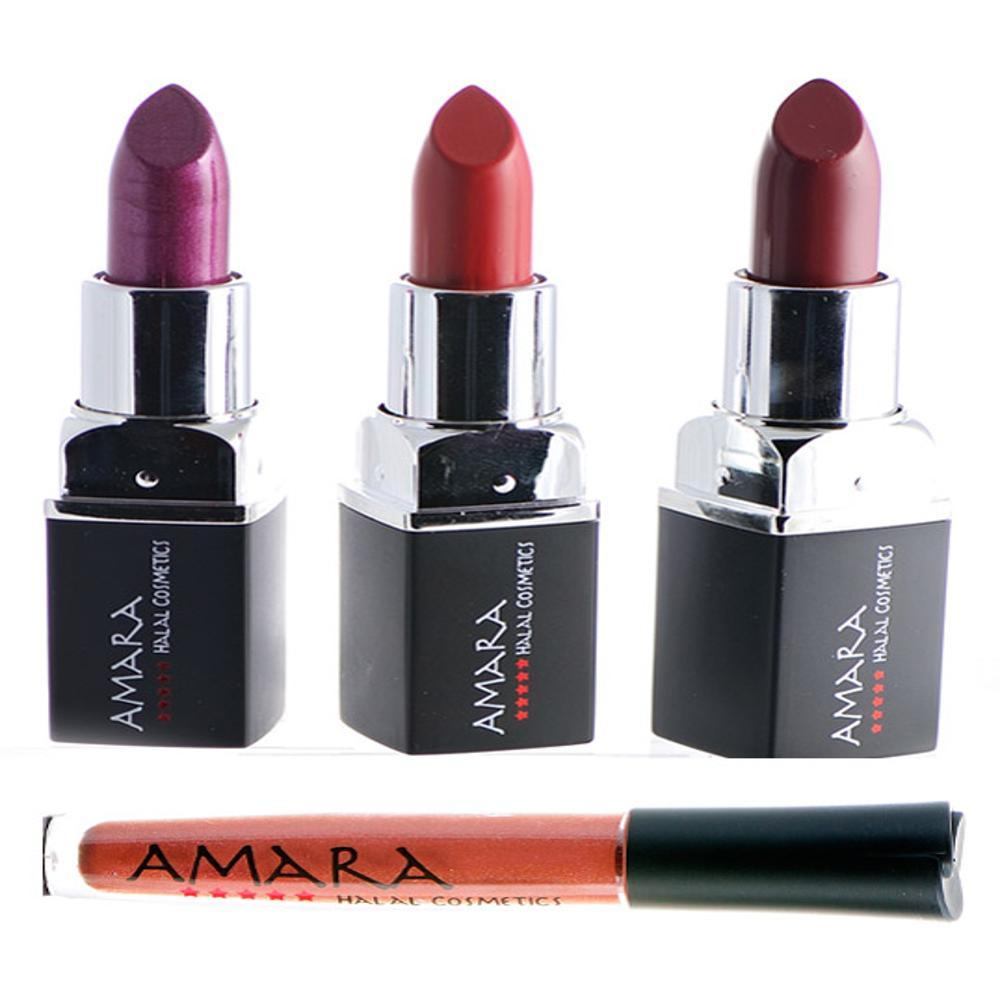lipstick: (649, 74, 942, 763), (331, 54, 614, 757), (34, 69, 293, 749), (23, 796, 985, 926)
